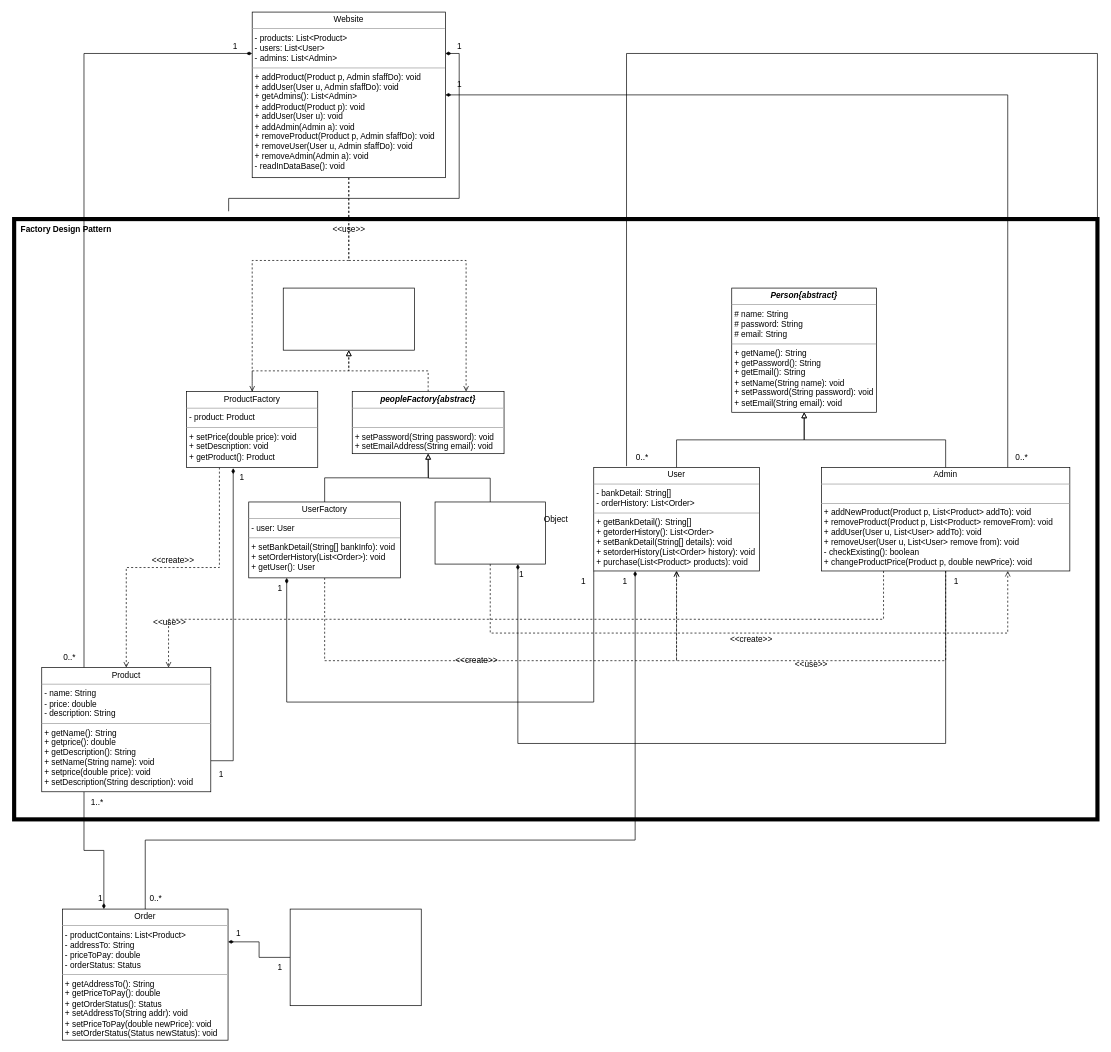
Some shapes in this 1111 by 1052 pixel diagram are drawn without their labels. Each missing label, with the centre of its shape:
<<enumration>> Status Unpaid, Paid, OnTheWay, Received, Cancelled, Closed: the point at 355,957
<<Interface>> ObjectFactory + build(String name): void: the point at 348,318
AdminFactory - admin: Admin + getAdmin(): Admin: the point at 489,532
